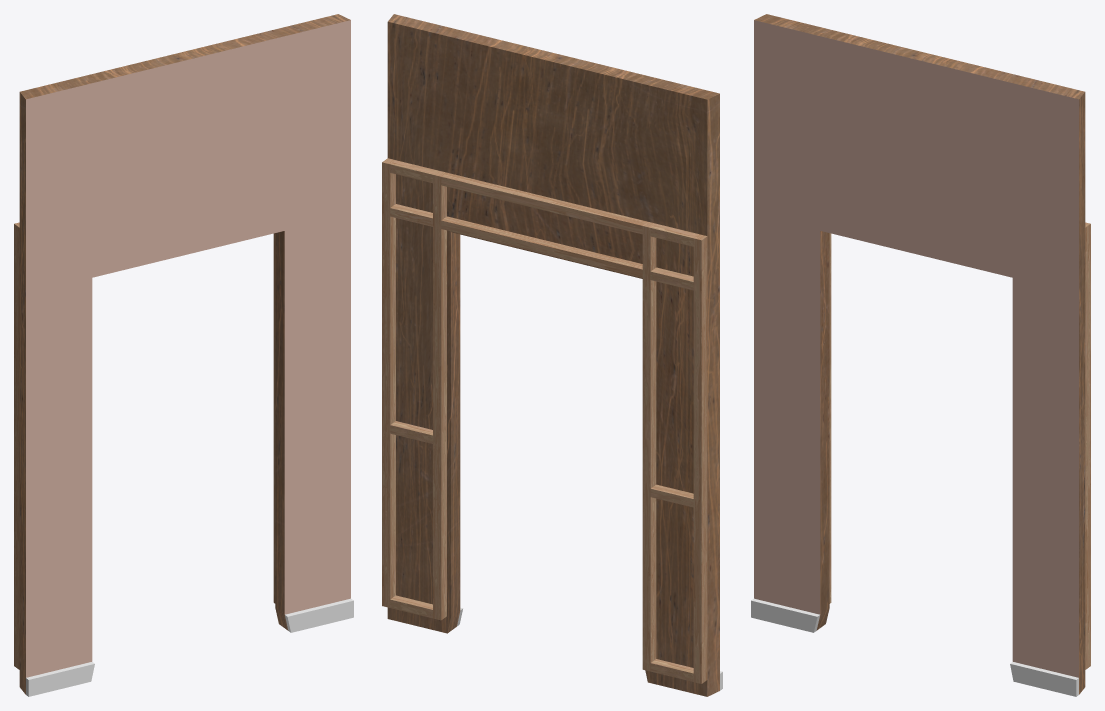
Rendered from MovieSet_WallDoor.fbx.
3 renders of one model, left to right at view 1: azimuth 30°, elevation 25°; view 2: azimuth 150°, elevation 25°; view 3: azimuth 330°, elevation 25°, orthographic.
Visible parts, largest first — view 1: MovieSet_Wall_Door; view 2: MovieSet_Wall_Door; view 3: MovieSet_Wall_Door.
Part boxes in pixels (bbox=[...]): MovieSet_Wall_Door: bbox=[14, 14, 353, 696]; MovieSet_Wall_Door: bbox=[382, 14, 722, 696]; MovieSet_Wall_Door: bbox=[751, 14, 1090, 696].
Bounding box in the file's own units: 2 × 3.5 × 0.19.
